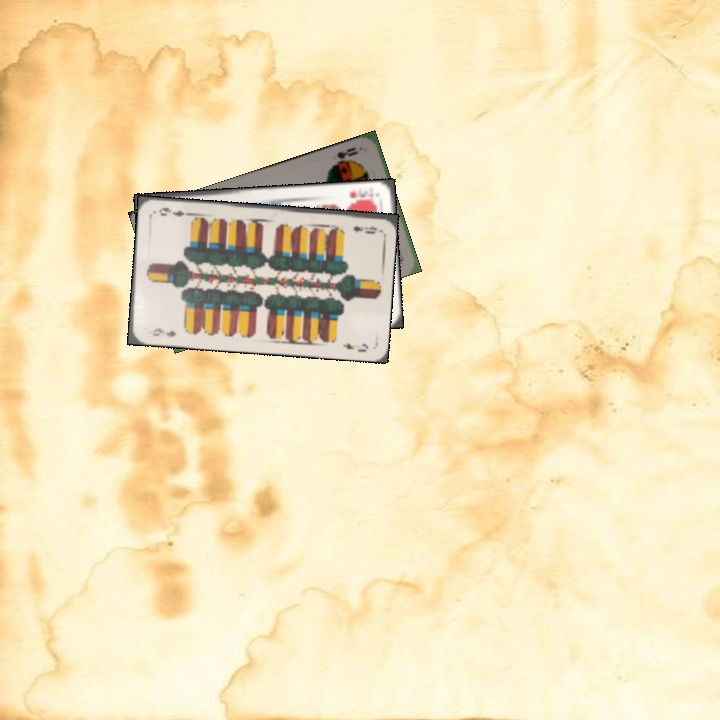E9: (149, 324, 179, 339), (350, 221, 379, 236)
HK: (345, 184, 374, 204)
SO: (333, 143, 362, 161)
